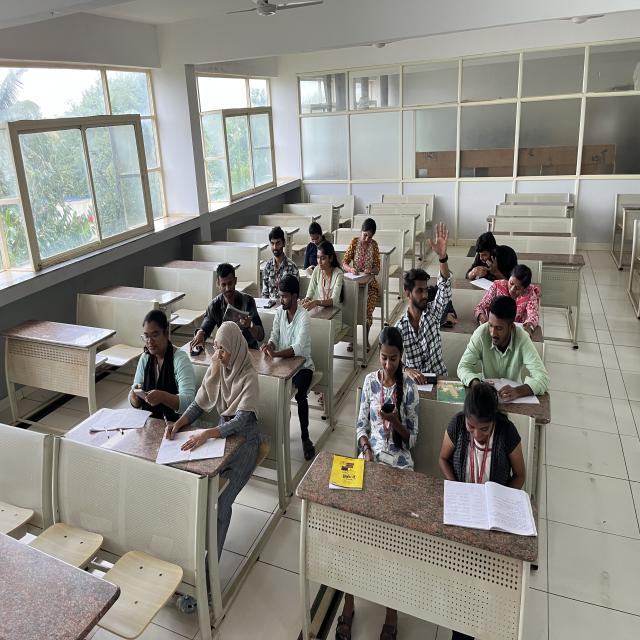Hand Rising: (393, 220, 457, 341)
Reading: (432, 379, 539, 544), (465, 298, 540, 390)
Using Phone: (345, 322, 423, 471), (114, 296, 189, 414), (464, 221, 510, 283), (300, 216, 328, 271)
Writing: (165, 317, 262, 456), (340, 214, 385, 287)
